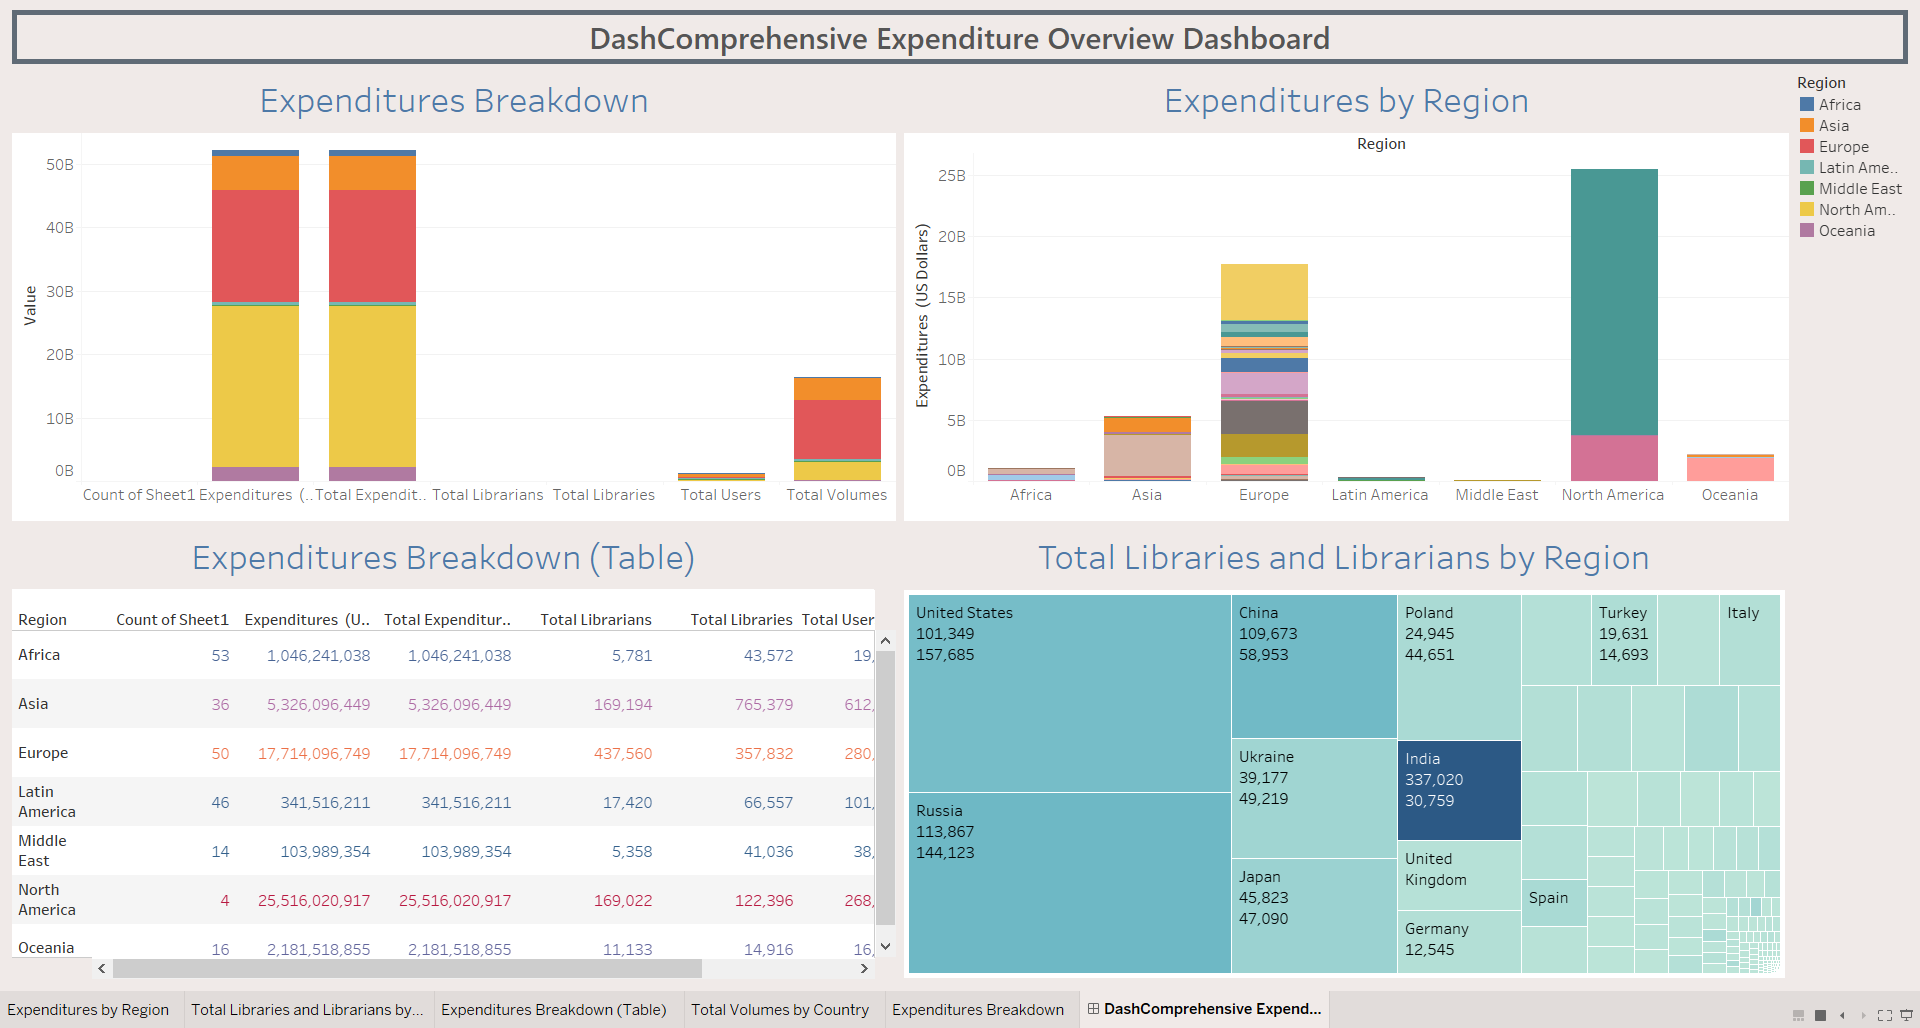

What the dashboard file says about the page in this screenshot:
{"tool":"tableau","page":{"name":"DashComprehensive Expenditure Overview Dashboard ","canvas":[1000,1000],"units":"permille","ordinal":0},"visuals":[{"type":"title","box":[4.8,9.9,990.3,76.4]},{"type":"worksheet","title":"Expenditures Breakdown","mark":"Automatic","box":[4.8,86.3,459.3,451.9]},{"type":"worksheet","title":"Expenditures by Region","mark":"Automatic","rows":["Expenditures  (US Dollars)"],"cols":["Region"],"box":[464.1,86.3,459.3,451.9]},{"type":"legend","title":"Expenditures Breakdown","param":"[federated.0eqp39b085s46611j1p7r02zv7ud].[none:Region:nk]","box":[923.4,86.3,71.8,233]},{"type":"worksheet","title":"Expenditures Breakdown (Table)","mark":"Text","rows":["Region"],"box":[4.8,538.2,459.3,451.9]},{"type":"worksheet","title":"Total Libraries and Librarians by Region","mark":"Automatic","box":[464.1,538.2,459.3,452]}]}

Visuals, with their boxes on the dashboard's canvas, which has no fixed pixel size, in thousandths of its width and height (x1, y1, x2, y2). These are canvas units, not pixel positions in the 1920x1028 screenshot, which may show the page scaled, cropped or inside an application window:
title: 5, 10, 995, 86
"Expenditures Breakdown" worksheet: 5, 86, 464, 538
"Expenditures by Region" worksheet: 464, 86, 923, 538
"Expenditures Breakdown" legend: 923, 86, 995, 319
"Expenditures Breakdown (Table)" worksheet (Text marks): 5, 538, 464, 990
"Total Libraries and Librarians by Region" worksheet: 464, 538, 923, 990
